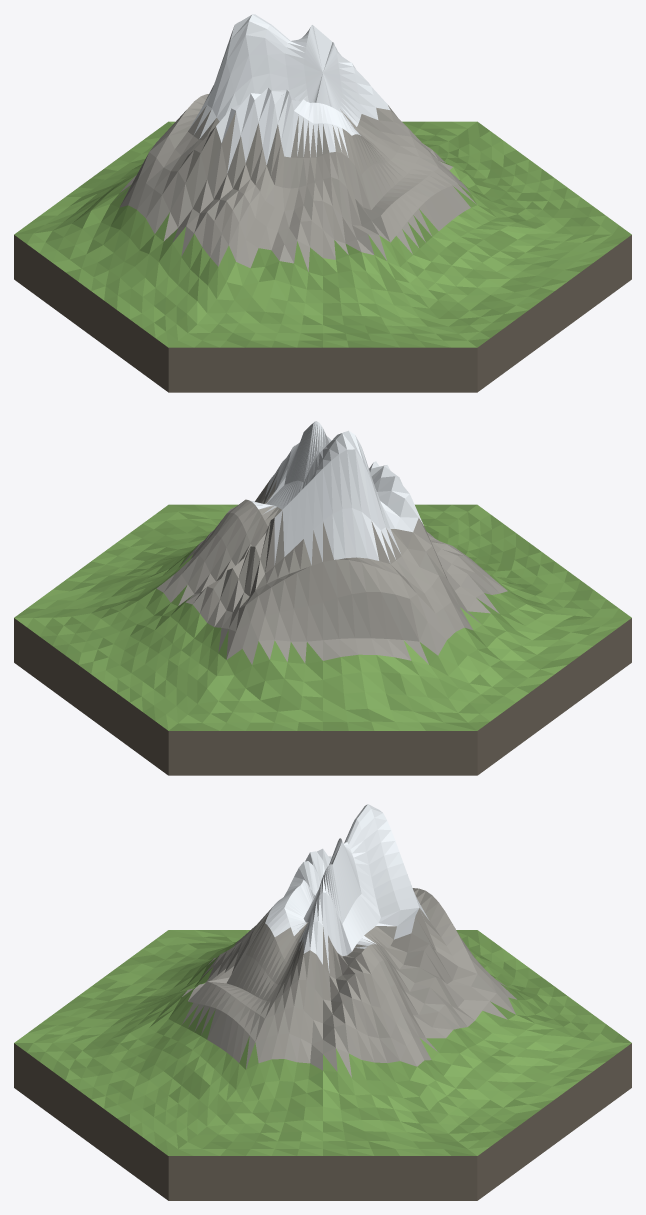
Rendered from TERRAIN_GRASS_MOUNTAIN_v01.fbx.
3 renders of one model, top to bottom at view 1: azimuth 30°, elevation 25°; view 2: azimuth 150°, elevation 25°; view 3: azimuth 270°, elevation 25°, orthographic.
Visible parts, largest first — view 1: TERRAIN_GRASS_MOUNTAIN_v01; view 2: TERRAIN_GRASS_MOUNTAIN_v01; view 3: TERRAIN_GRASS_MOUNTAIN_v01.
Part boxes in pixels (x1,y1,x2,y2): TERRAIN_GRASS_MOUNTAIN_v01: (14, 14, 631, 392); TERRAIN_GRASS_MOUNTAIN_v01: (14, 421, 631, 775); TERRAIN_GRASS_MOUNTAIN_v01: (14, 804, 631, 1200).
Size of the model in its own units: 173 by 92.94 by 200.
